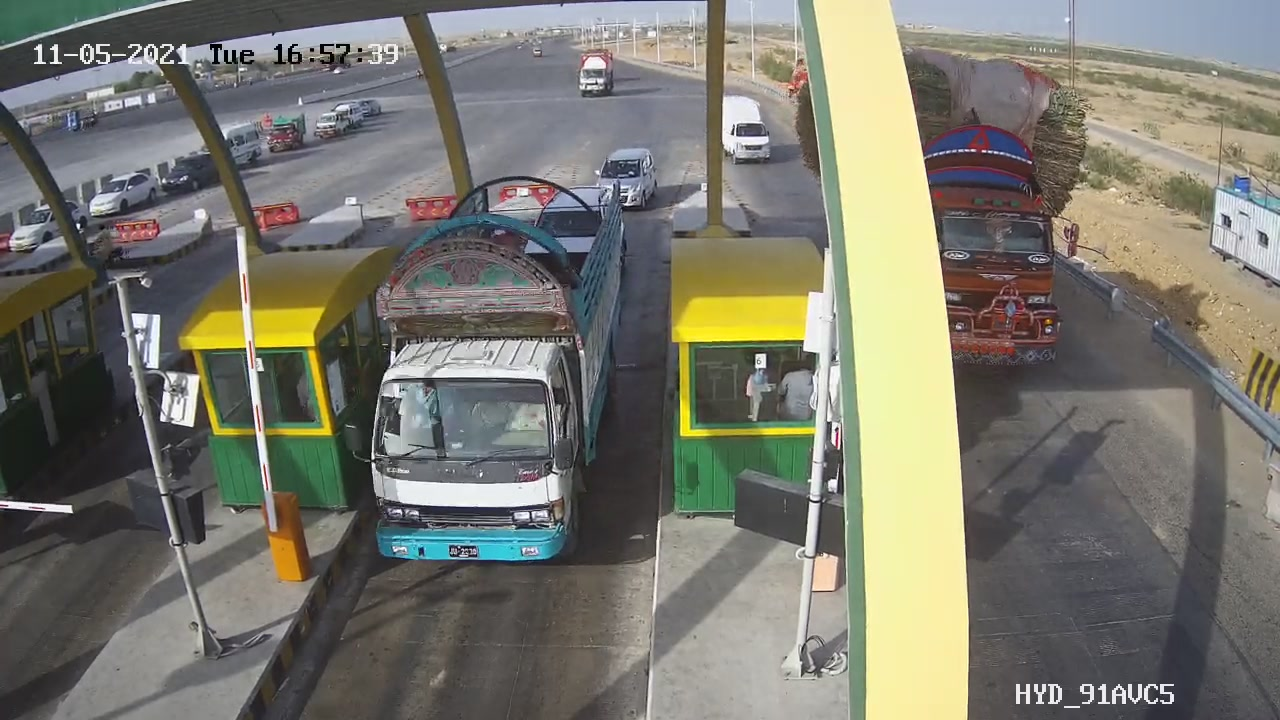F5: (324, 160, 654, 599)
